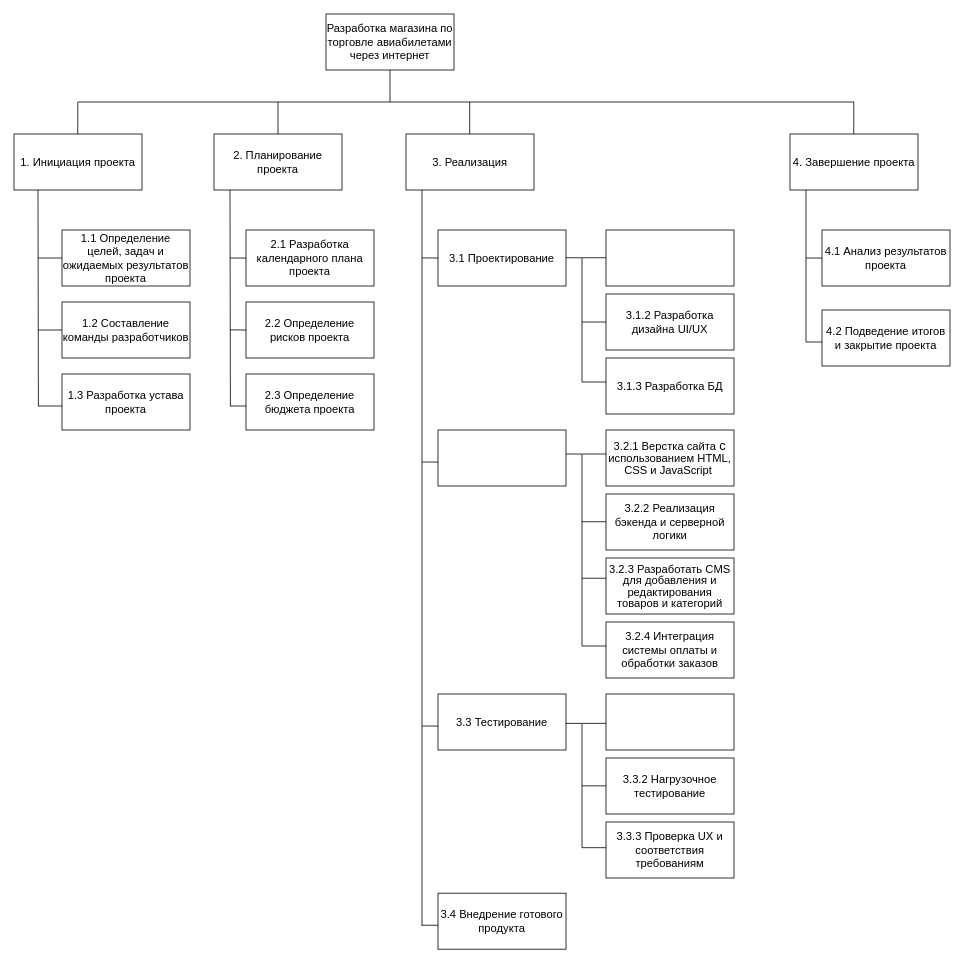
The diagram is 964 pixels wide and 963 high, and some of its shapes have lost their labels. Here are the shapes that lost their labels. From the top down, the centre of each, then its label:
At (669,257): "3.1.1 Разработка архитектуры".
At (501,457): "3.2 Разработка".
At (669,721): "3.3.1 Функциональное тестирование".
